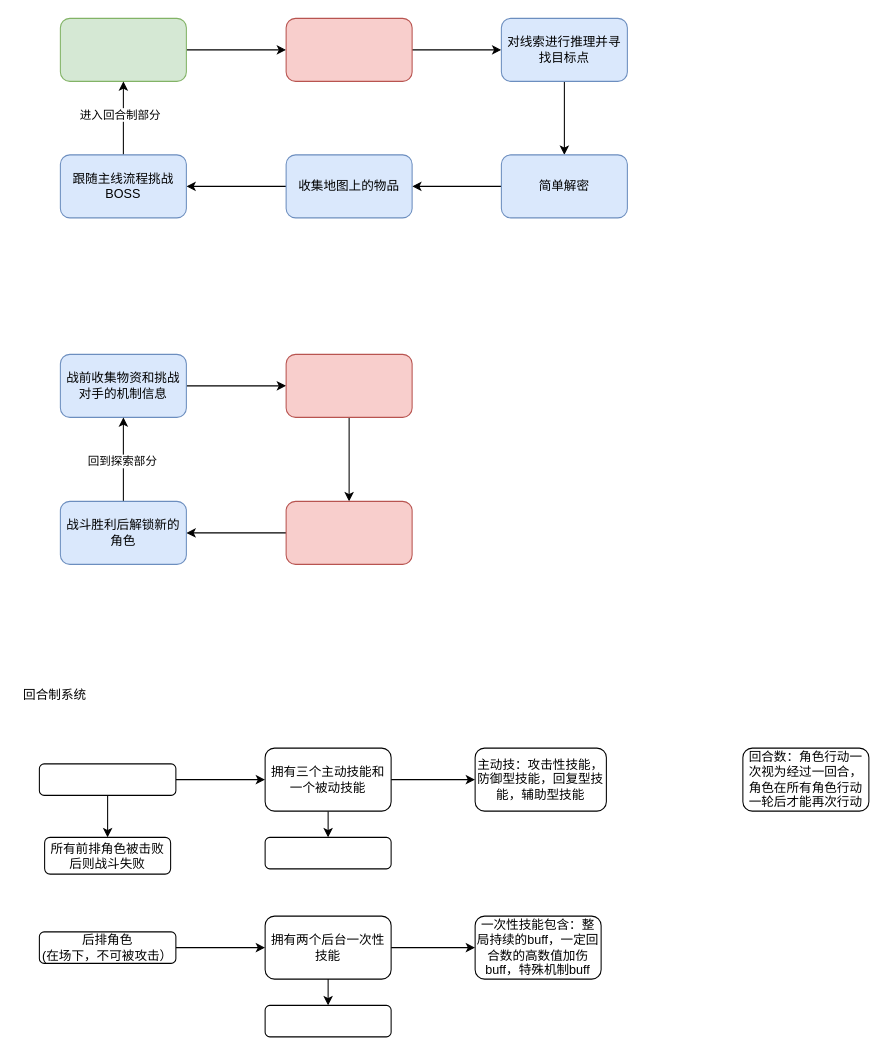
Image size: 887x1055. Some labels were removed from this diagram. The centre of each missing label's shape, as x and y in pixels:
与NPC对话寻找线索: (348,49)
前排角色 (在场上，可以被攻击）: (107,779)
战前指定回合数或极端条件下触发: (327,1020)
战前规划所用的角色和打法: (348,385)
战斗期间验证搭配的思路: (348,532)
每回合释放一个技能: (327,852)
进入新地图: (122,49)
